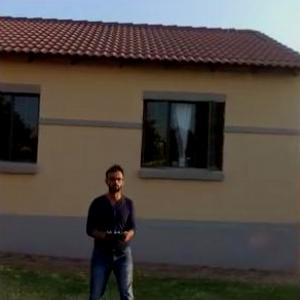follow: (78, 161, 140, 299)
